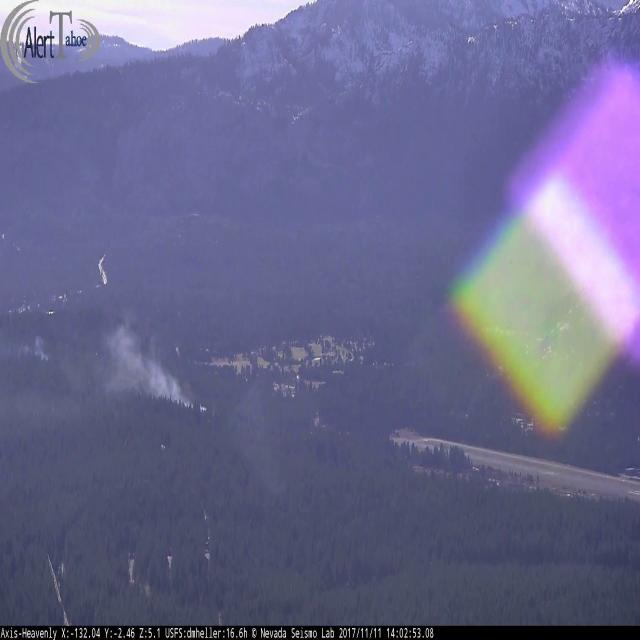smoke: (0, 329, 109, 431), (106, 318, 207, 412), (0, 336, 50, 362)
